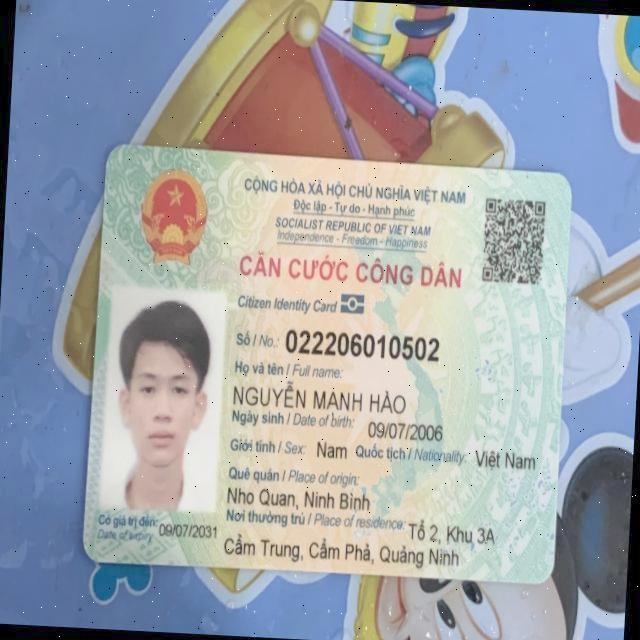current_place: (222, 528, 463, 573), (407, 516, 498, 549)
dob: (363, 415, 451, 446)
expire_date: (157, 519, 219, 542)
gender: (317, 435, 349, 461)
id: (278, 323, 446, 366)
name: (229, 379, 413, 418)
nationality: (472, 446, 545, 476)
origin_place: (225, 482, 371, 514)
qr: (479, 192, 550, 288)
